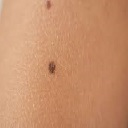Melanoma: (46, 60, 59, 73)
